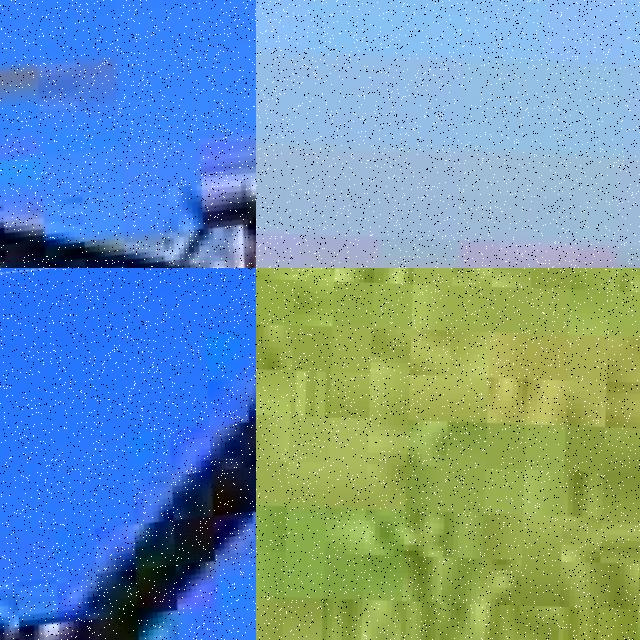drone: (0, 268, 256, 640), (0, 0, 256, 268)
